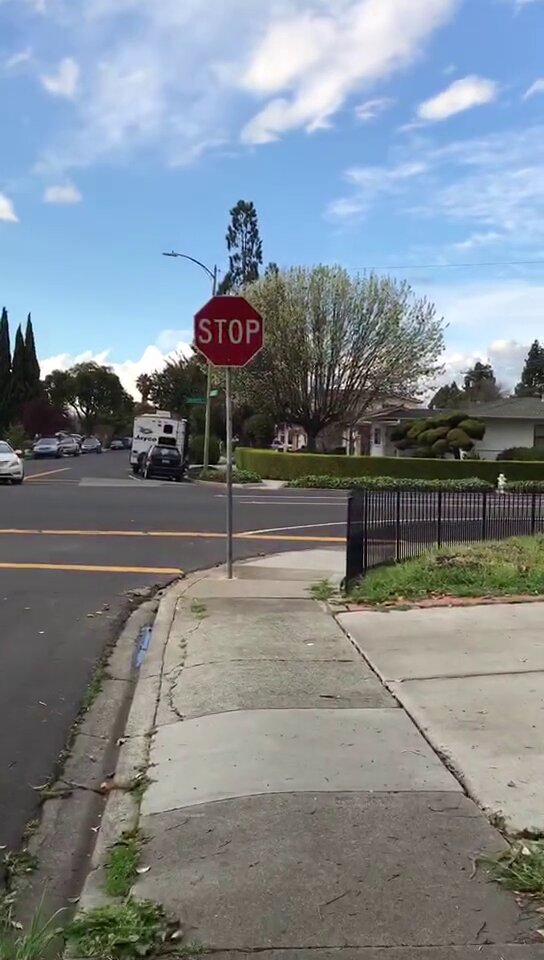stop_sign: (195, 297, 264, 366)
